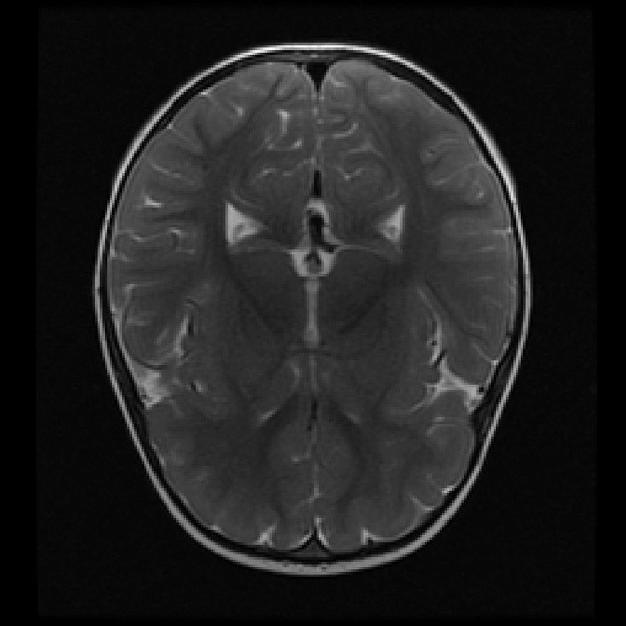Normal_Brain: (4, 1, 626, 626)
